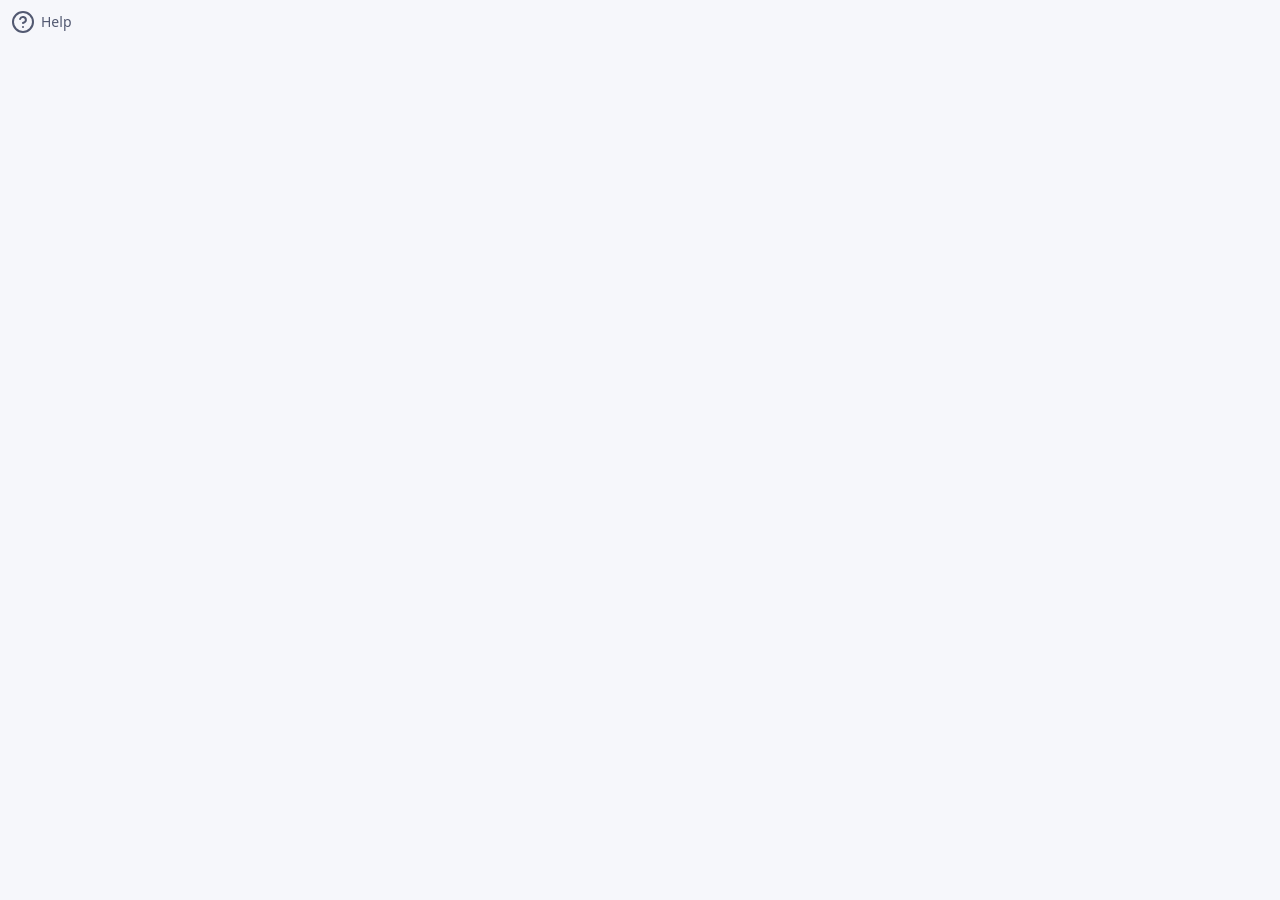
Test: Help › opens as a labelled dialog and closes with Escape, returning focus
Click the button "Help" at (41, 22), box left=0, top=0, right=82, bottom=44
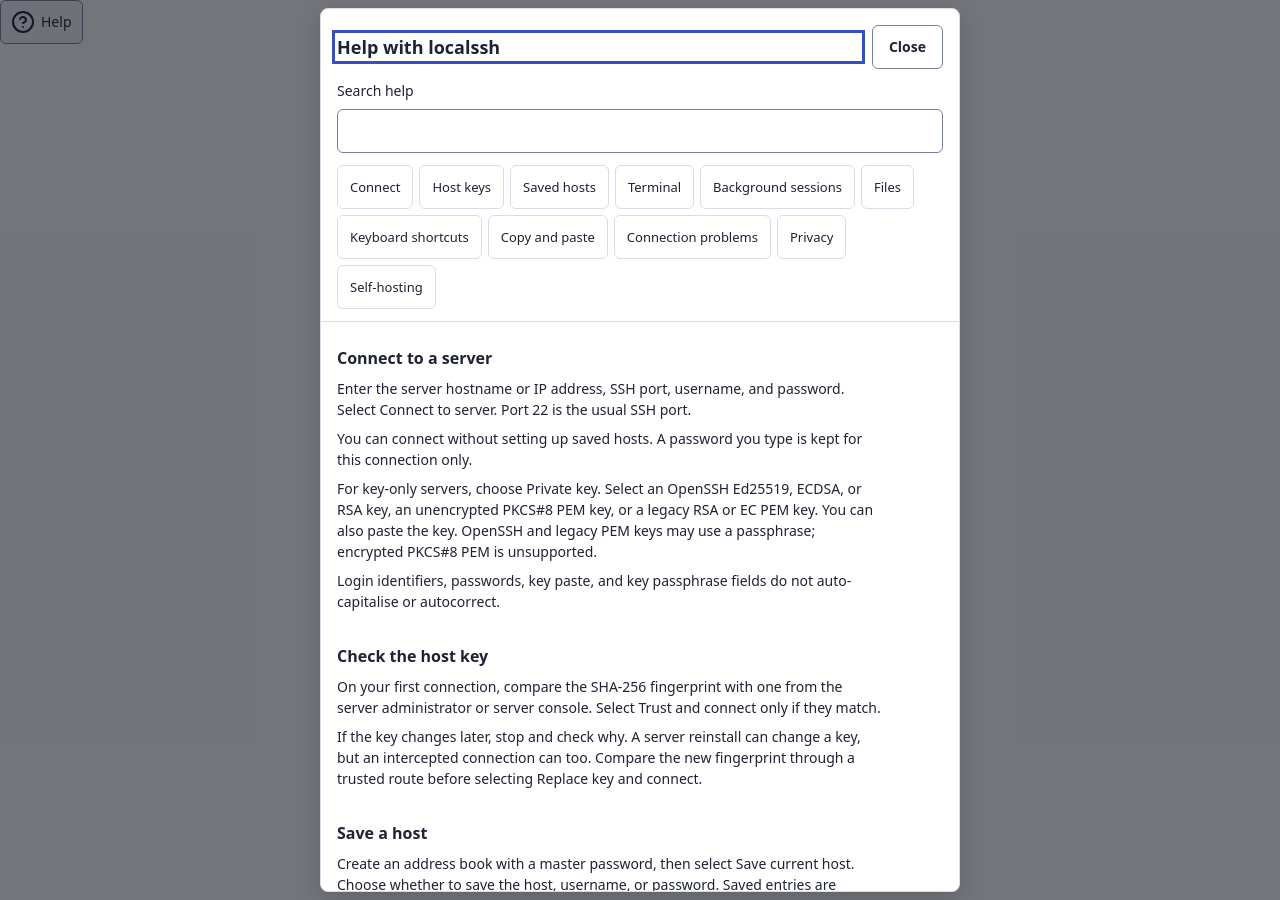
Now the button "Help" is expanded, box left=0, top=0, right=82, bottom=44
Now the heading "Check the host key" is shown, box left=337, top=645, right=488, bottom=667
Press Escape
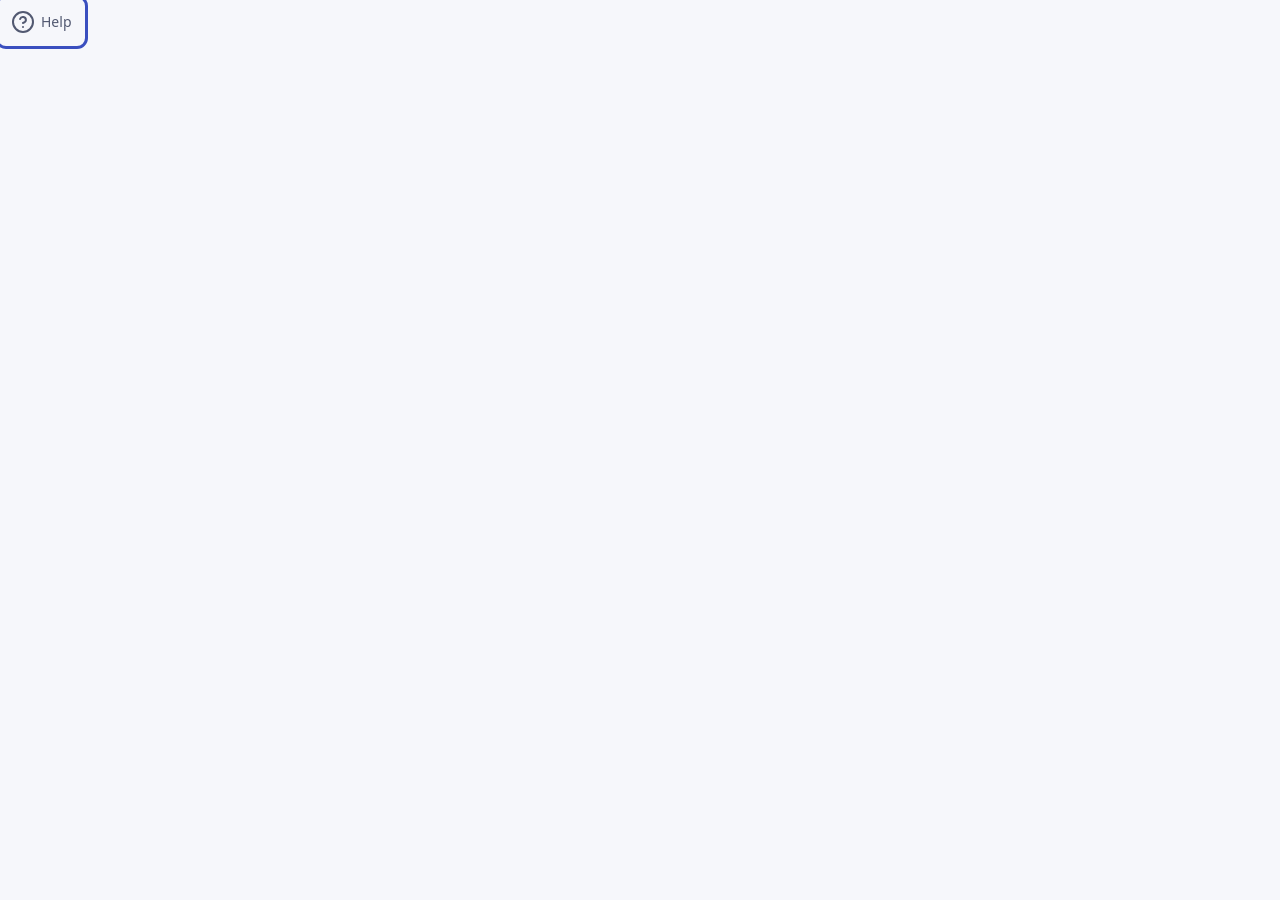
Now the dialog is gone
